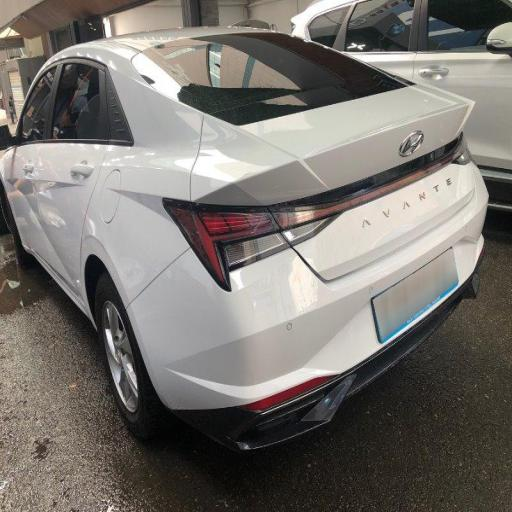dent: (141, 245, 405, 440)
scratch: (10, 164, 130, 297)
